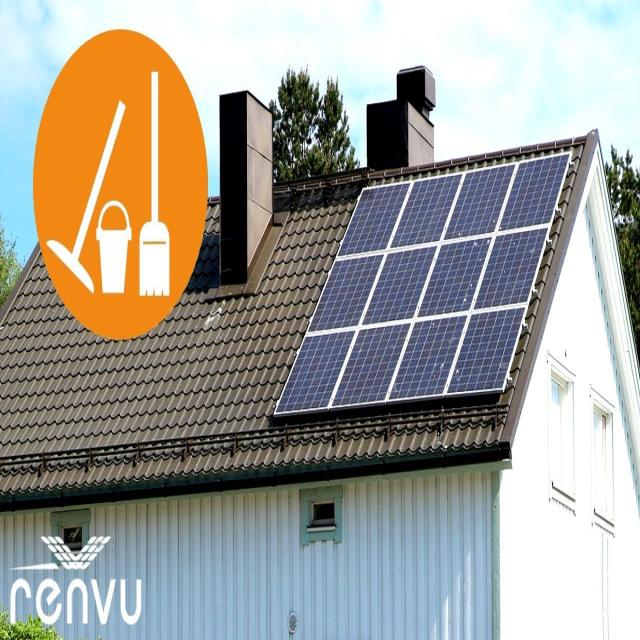clean-solar-panel: (275, 153, 570, 416)
